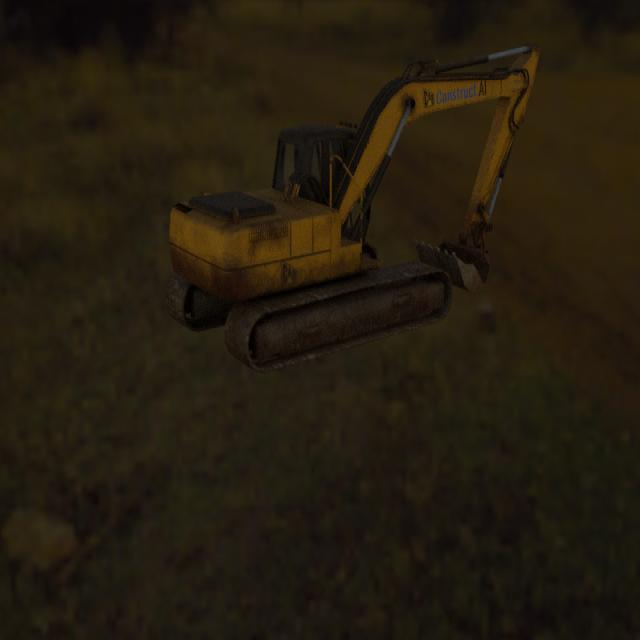excavator: (165, 40, 540, 373)
